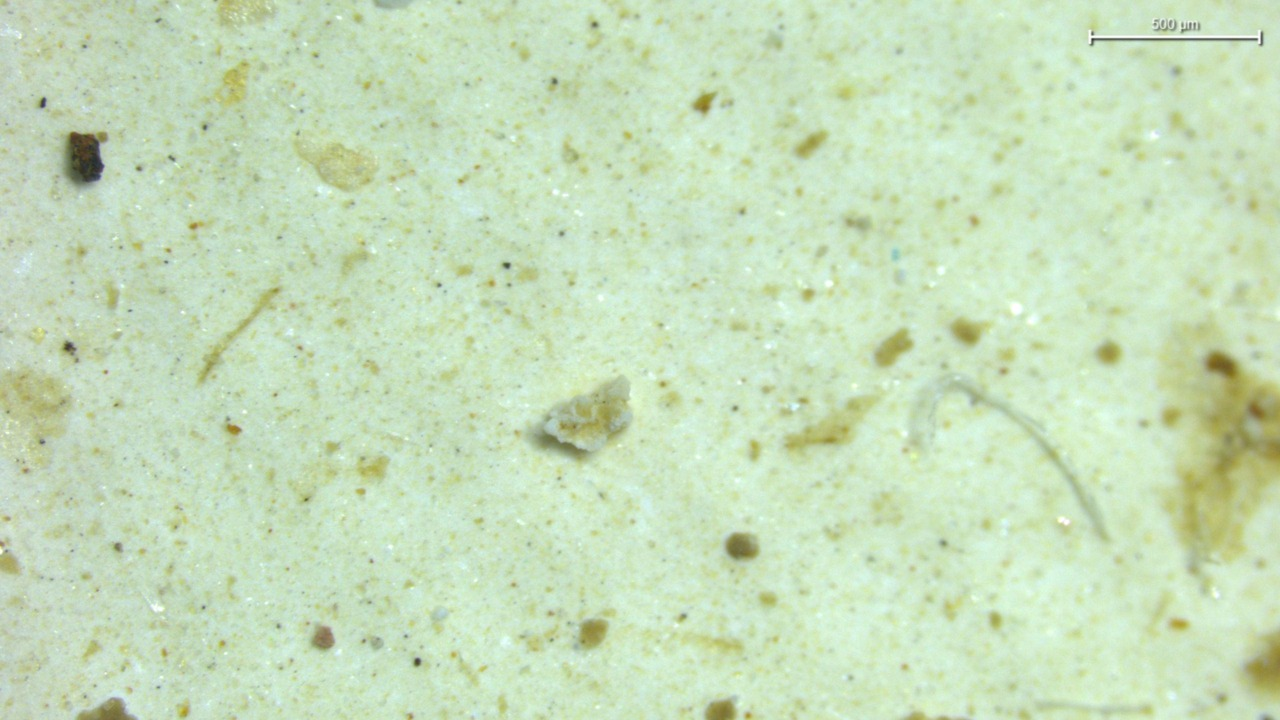microplastic_fragment: (543, 376, 632, 451)
